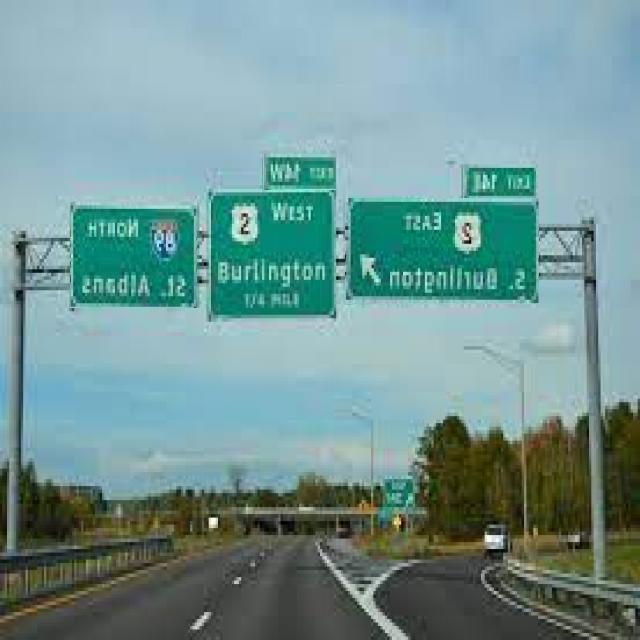street-signs: (345, 199, 539, 304), (208, 188, 337, 322), (71, 202, 197, 308), (264, 153, 336, 190), (464, 165, 536, 198)
